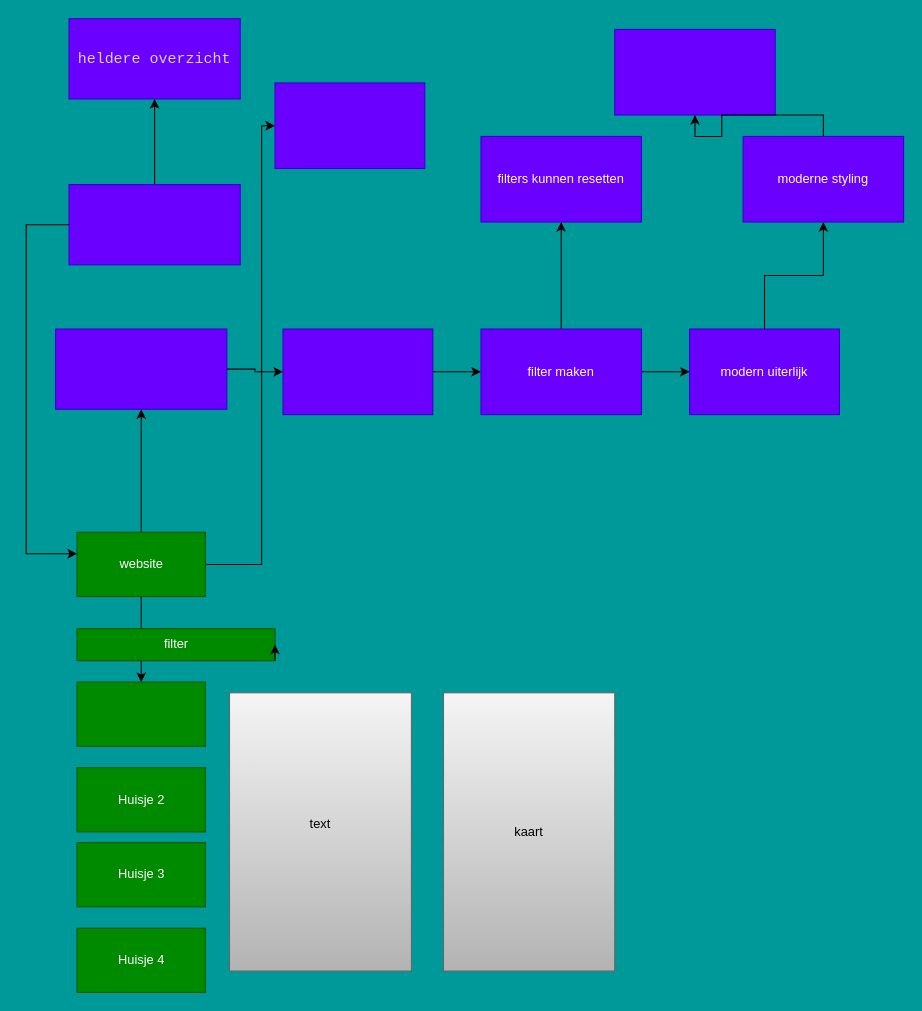
This 922x1011 diagram has some shape labels left out. The centre of each missing label's shape, as x and y in pixels:
"faciliteiten" goes at point (154, 224).
"flexbox" goes at point (141, 368).
"Huisje 1" goes at point (140, 713).
"javascript" goes at point (694, 71).
"margin en padding" goes at point (357, 371).
"specifieke kleuren" goes at point (349, 125).
